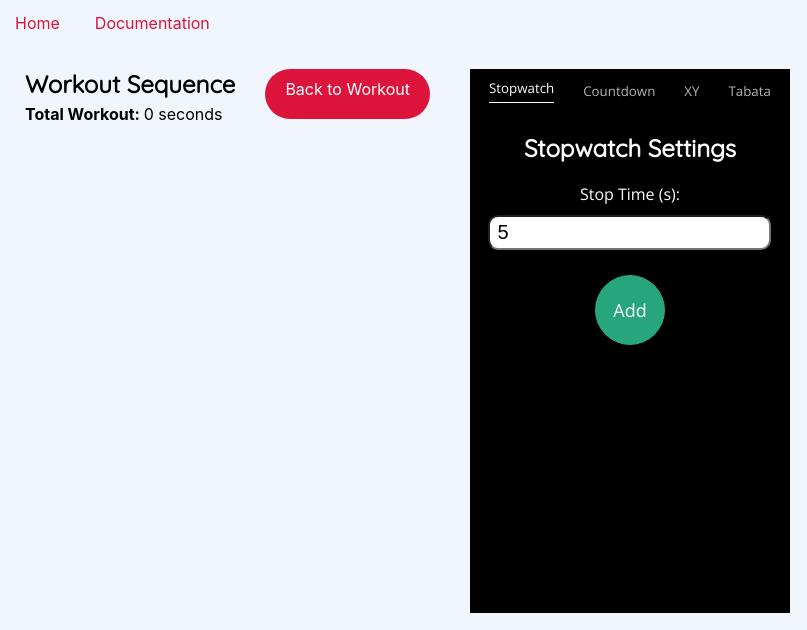
Form › can't add an negative number
The width and height of the screenshot is (807, 630).
Replace the text in the number field with "-1" at {"x": 631, "y": 233}, box top-left (489, 215), bottom-right (772, 250)
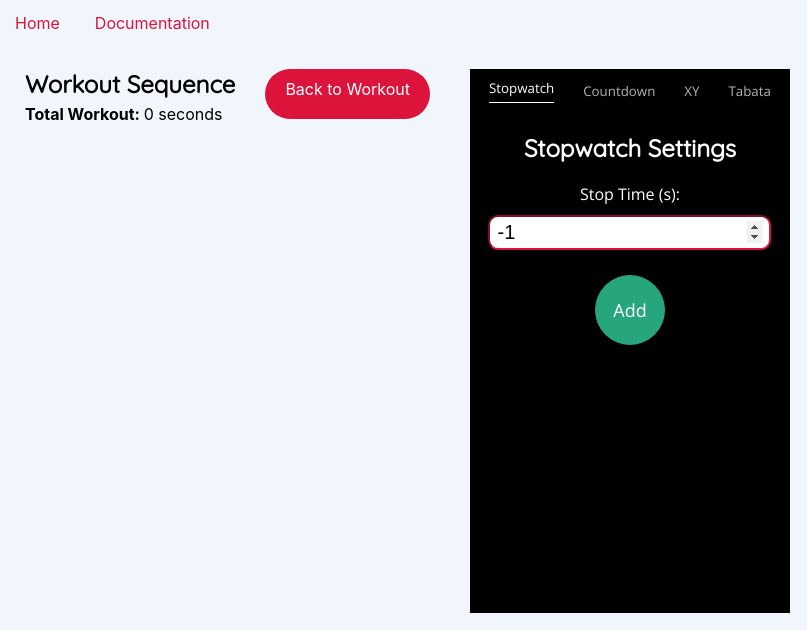
Click the button with class "round-btn" at {"x": 630, "y": 310}, box top-left (595, 275), bottom-right (665, 345)
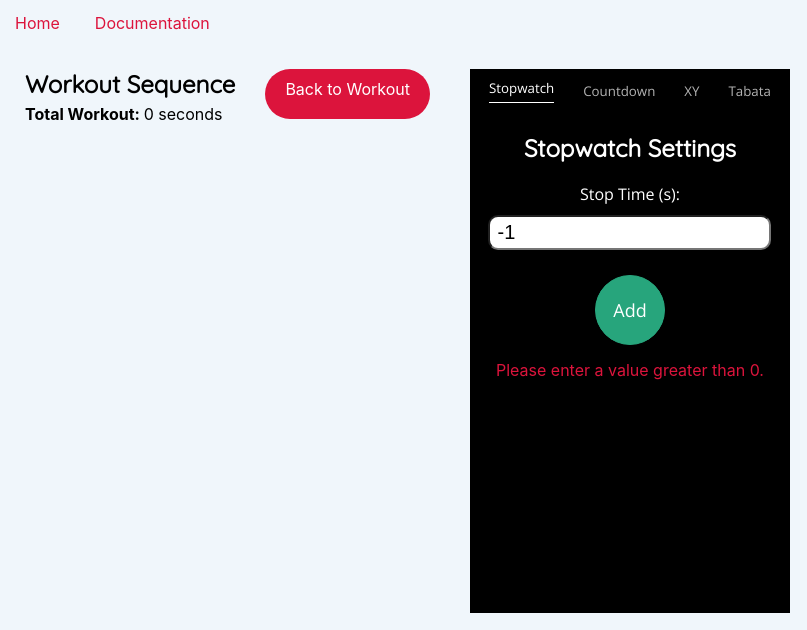
Expected: the text "Please enter a value greater than 0." is shown, top-left (496, 350), bottom-right (764, 380)
